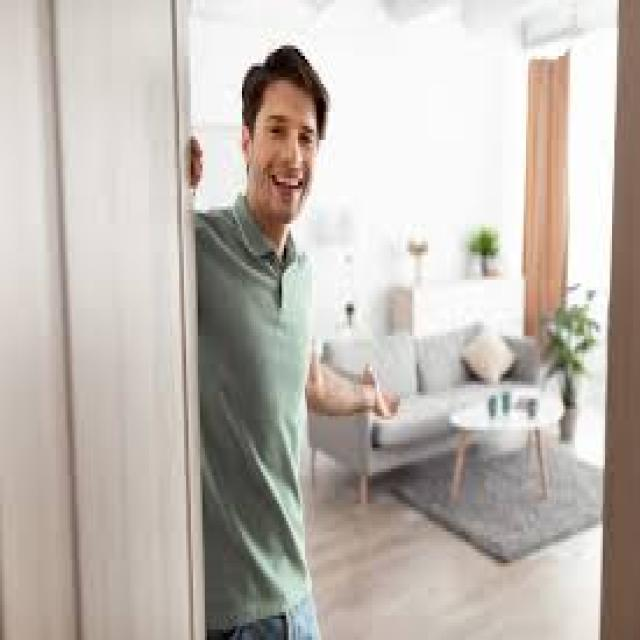person-without-mask: (154, 33, 412, 640)
